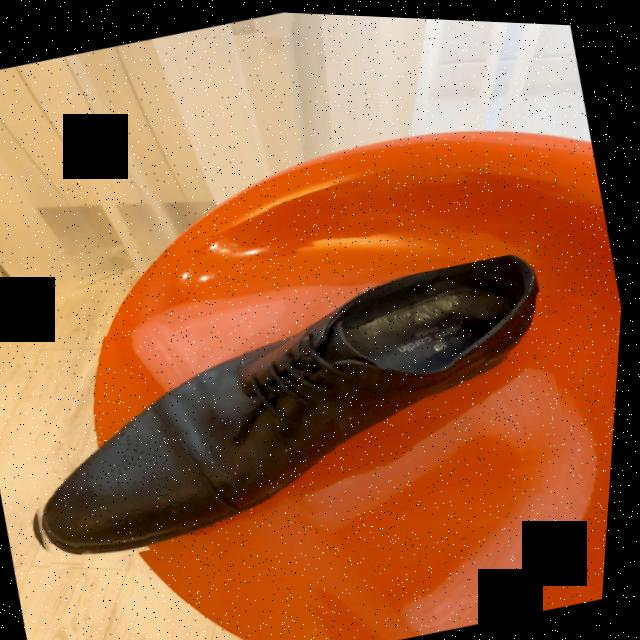shoe: (46, 250, 544, 557)
